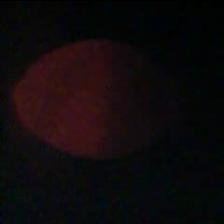fertile: (13, 39, 177, 162)
